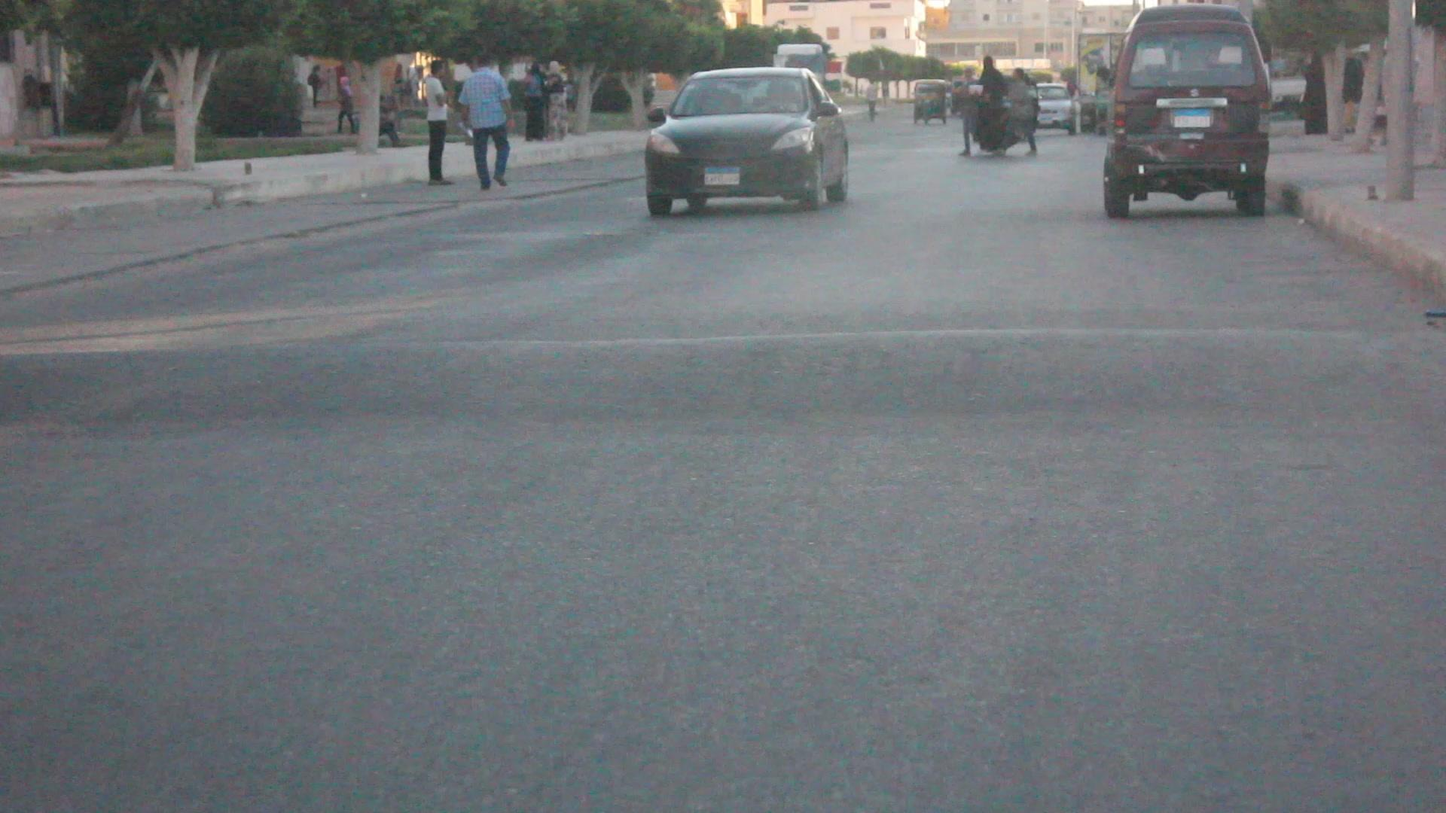Bump: (0, 326, 1445, 472)
